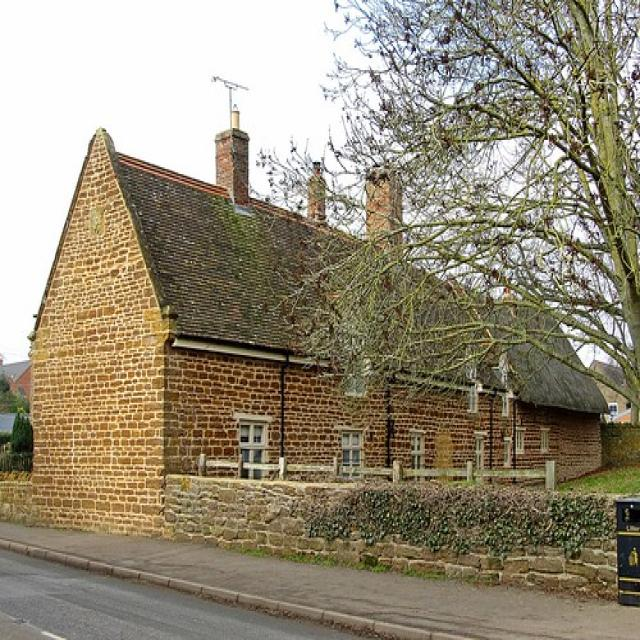building: (27, 110, 614, 525)
